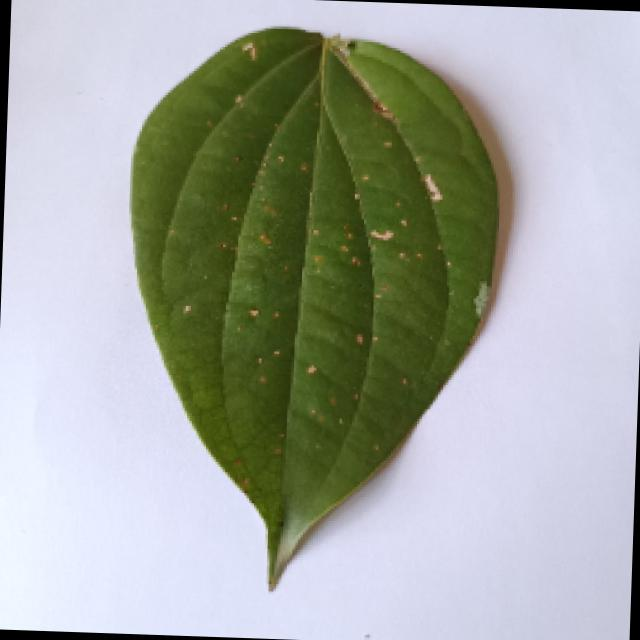pollu-disease: (113, 21, 500, 590)
